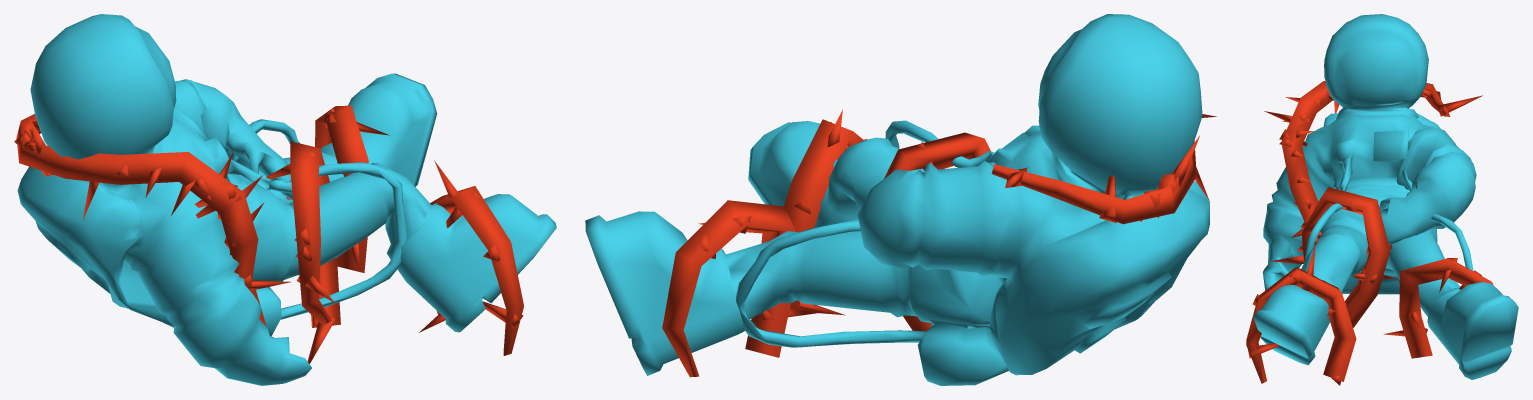
Rendered from new_dead_guy5.fbx.
3 renders of one model, left to right at view 1: azimuth 30°, elevation 25°; view 2: azimuth 150°, elevation 25°; view 3: azimuth 270°, elevation 25°, orthographic. The views are drawn at different scales.
Visible parts, largest first — view 1: dead_guys5, dead_guy5_vains; view 2: dead_guys5, dead_guy5_vains; view 3: dead_guys5, dead_guy5_vains.
Part boxes in pixels (x1=…): dead_guys5: x1=17, y1=14, x2=556, y2=385; dead_guy5_vains: x1=14, y1=105, x2=523, y2=363; dead_guys5: x1=585, y1=14, x2=1209, y2=385; dead_guy5_vains: x1=662, y1=109, x2=1216, y2=377; dead_guys5: x1=1253, y1=14, x2=1518, y2=379; dead_guy5_vains: x1=1246, y1=81, x2=1493, y2=385.
Bounding box in the file's own units: 395 × 282 × 276.
